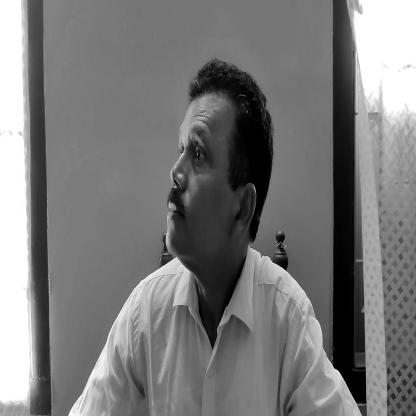Distracted: (166, 58, 275, 287)
